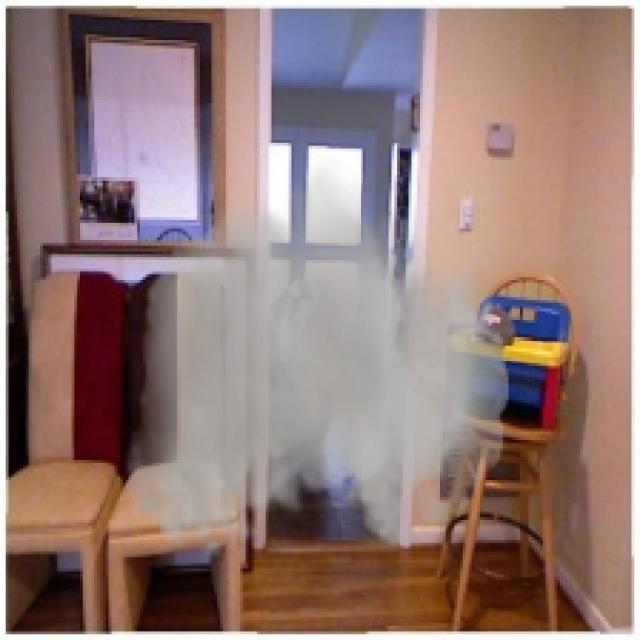smoke: (126, 151, 508, 560)
